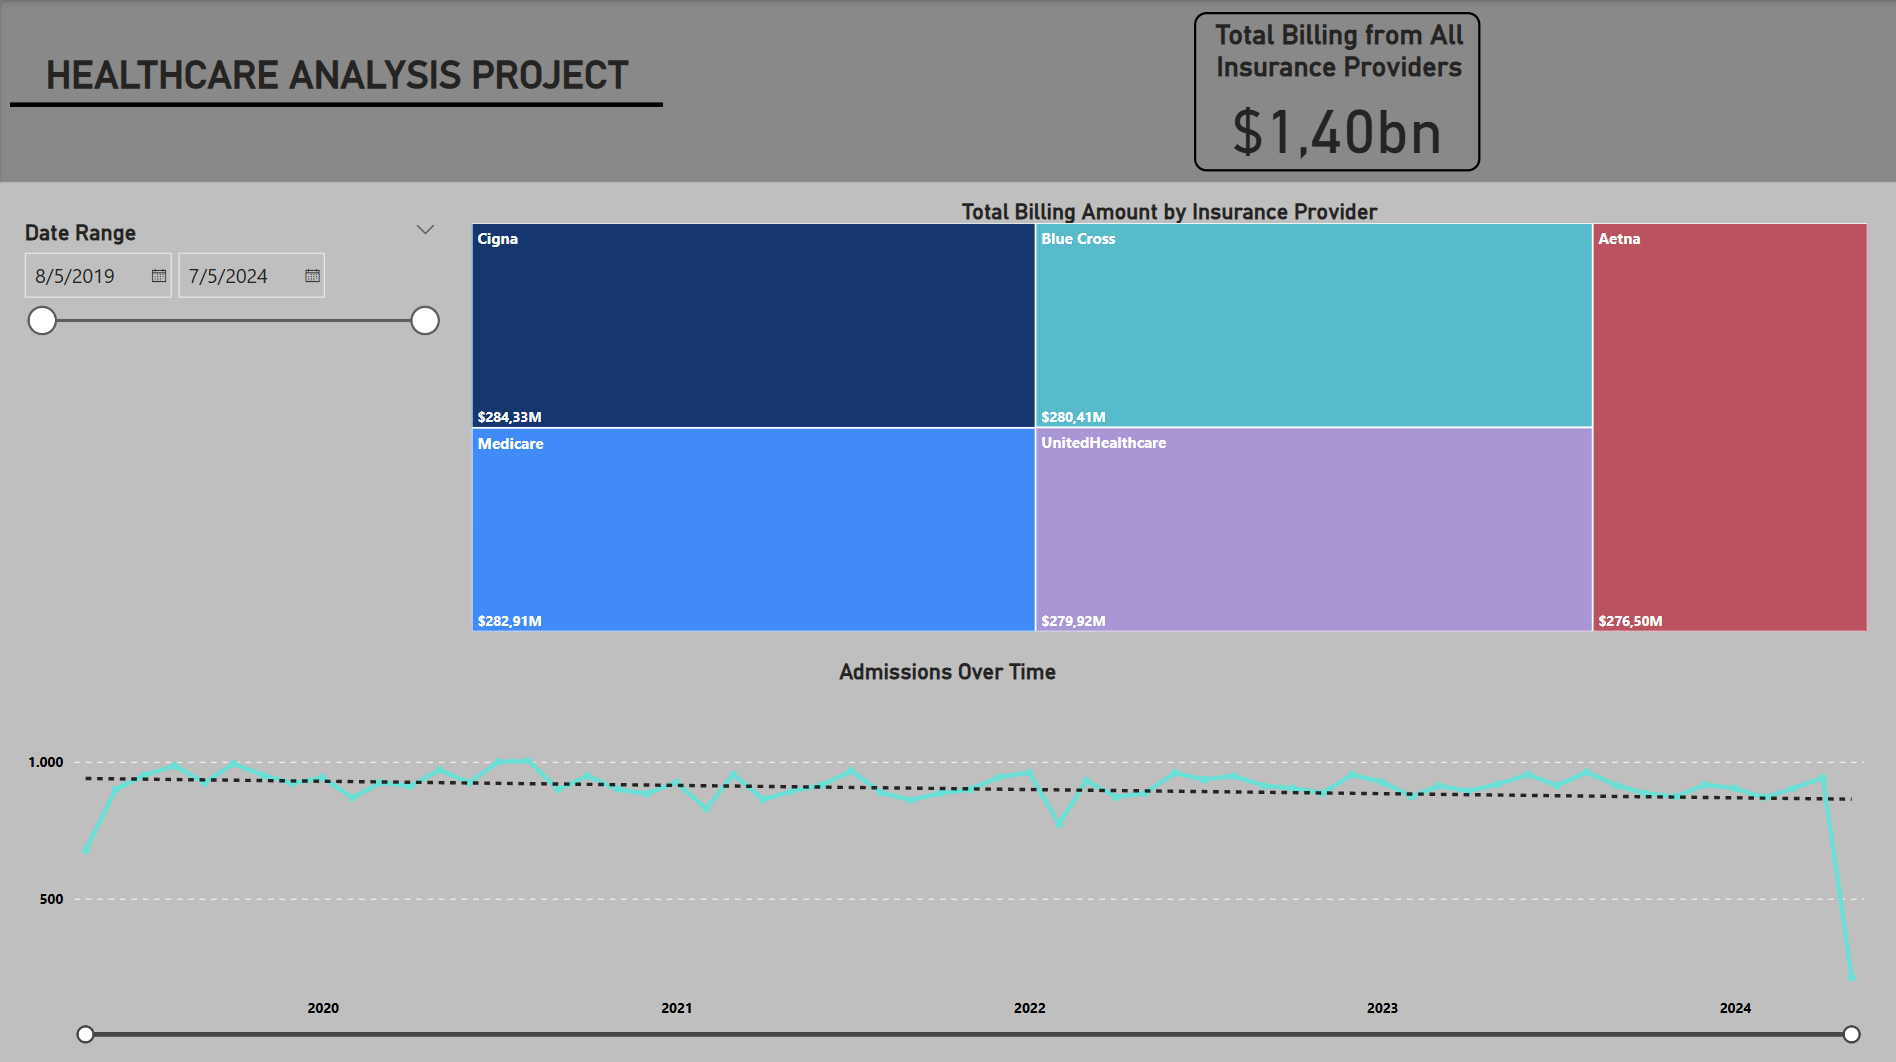

What the dashboard file says about the page in this screenshot:
{"tool":"powerbi","page":{"name":"Admissions & Revenue Trends","canvas":[1664,936],"ordinal":2},"visuals":[{"type":"treemap","title":"Total Billing Amount  by Insurance Provider","fields":{"Values":["Sum(healthcare_dataset_final.billing_amount)"],"Group":["healthcare_dataset_final.insurance_provider"]},"box":[408.6,174.3,1235.7,385.7],"z":0},{"type":"lineChart","title":"Admissions Over Time","fields":{"Y":["CountNonNull(healthcare_dataset_final.name)"],"Category":["healthcare_dataset_final.date_of_admission.Variation.Date Hierarchy.Year","healthcare_dataset_final.date_of_admission.Variation.Date Hierarchy.Month"]},"box":[18.6,578.6,1625.7,341.4],"z":1000},{"type":"textbox","box":[35,40.4,545.8,61.6],"z":2000},{"type":"shape","box":[8.4,70.9,573.3,43.3],"z":3000},{"type":"card","title":"Total Billing from All Insurance Providers","fields":{"Values":["Sum(healthcare_dataset_final.billing_amount)"]},"box":[1048.6,10,251.4,140],"z":4000},{"type":"slicer","fields":{"Values":["healthcare_dataset_final.date_of_admission"]},"box":[8.6,187.1,385.7,150],"z":5000}]}

Visuals, with their boxes in screenshot pixels (x1, y1, x2, y2), scaled from the page's 1664x936 canvas onto the 1896x1062 screenshot:
"Total Billing Amount  by Insurance Provider" treemap: [x1=466, y1=198, x2=1874, y2=635]
"Admissions Over Time" lineChart: [x1=21, y1=656, x2=1874, y2=1044]
textbox: [x1=40, y1=46, x2=662, y2=116]
shape: [x1=10, y1=80, x2=663, y2=130]
"Total Billing from All Insurance Providers" card: [x1=1195, y1=11, x2=1481, y2=170]
slicer - healthcare_dataset_final.date_of_admission: [x1=10, y1=212, x2=449, y2=382]
